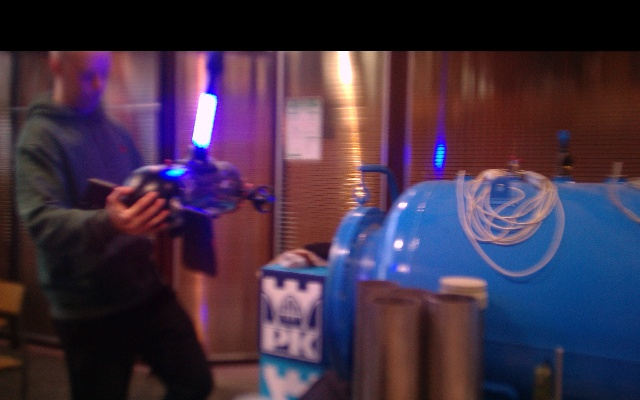blue: (191, 94, 216, 151)
